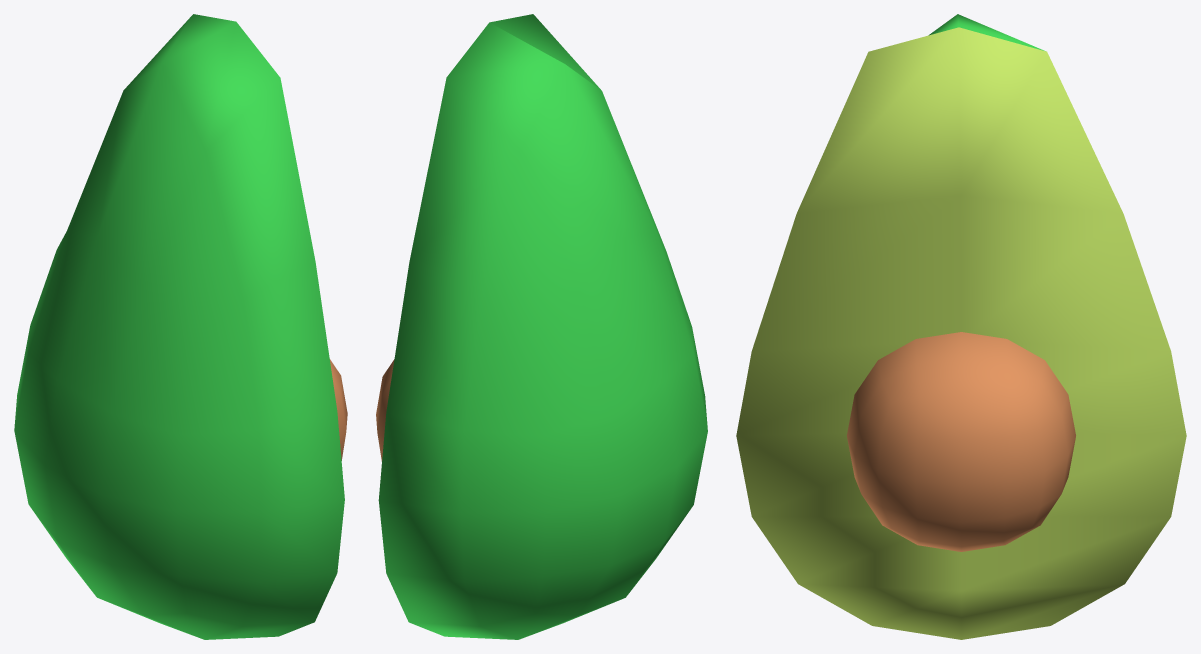
Rendered from Avokado.fbx.
3 views of the same model, side by side, from view 1: azimuth 30°, elevation 25°; view 2: azimuth 150°, elevation 25°; view 3: azimuth 270°, elevation 25° (orthographic). The views are drawn at different scales.
Parts seen in each view (by area): view 1: Cube, Cube.001; view 2: Cube, Cube.001; view 3: Cube, Cube.001.
Part boxes in pixels (box(x1,y1,x2,y2)): Cube: box(14, 14, 344, 639); Cube.001: box(329, 359, 347, 460); Cube: box(378, 14, 707, 639); Cube.001: box(376, 359, 394, 461); Cube: box(736, 14, 1186, 639); Cube.001: box(847, 332, 1075, 551).
Size of the model in its own units: 127 by 252 by 168.
